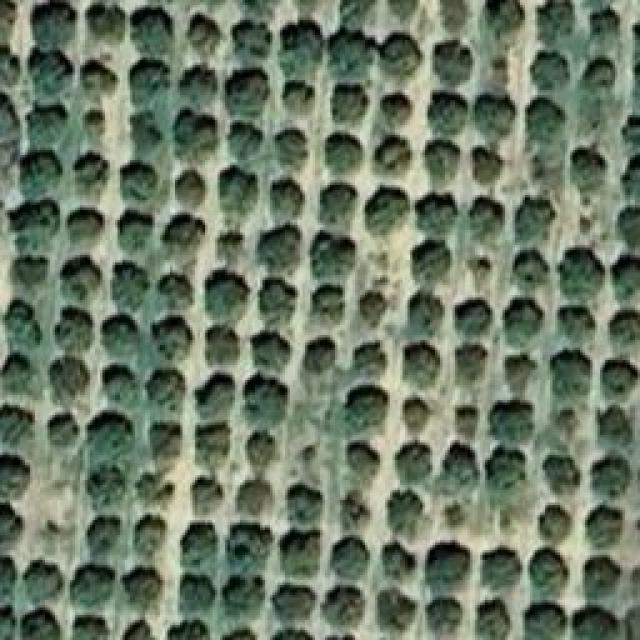Tree: (280, 20, 324, 78), (10, 203, 59, 255), (178, 58, 225, 109), (220, 165, 259, 225), (330, 30, 376, 80), (245, 375, 288, 428), (475, 95, 518, 148), (560, 250, 605, 300), (175, 110, 219, 161), (205, 270, 249, 321), (228, 525, 272, 576), (428, 543, 472, 594), (85, 412, 133, 458), (315, 178, 359, 228), (32, 0, 76, 49), (365, 188, 409, 236), (258, 225, 302, 272), (193, 423, 237, 470), (82, 463, 126, 510), (20, 150, 63, 198), (440, 443, 479, 494), (228, 73, 271, 119), (380, 33, 423, 79), (550, 350, 591, 398), (60, 255, 101, 302), (35, 50, 73, 100), (133, 8, 173, 55), (505, 298, 544, 346), (73, 565, 117, 607), (130, 60, 170, 106), (280, 530, 320, 576), (433, 40, 473, 86), (260, 278, 299, 325), (530, 550, 569, 597), (5, 300, 43, 348), (515, 197, 555, 242), (195, 375, 234, 421), (528, 98, 567, 144), (153, 318, 193, 362), (348, 385, 383, 435), (313, 235, 353, 278), (50, 358, 90, 401), (485, 448, 525, 491), (405, 343, 441, 390), (425, 140, 461, 187), (223, 575, 264, 616), (113, 263, 148, 311), (123, 568, 163, 610), (418, 193, 458, 235), (410, 293, 445, 340), (493, 402, 534, 442), (28, 105, 67, 147), (25, 560, 64, 602), (413, 240, 452, 282), (593, 458, 632, 500), (483, 548, 522, 590), (183, 525, 217, 573), (470, 198, 505, 244), (323, 587, 363, 627), (390, 490, 424, 537), (332, 538, 370, 580), (585, 558, 623, 600), (573, 147, 608, 192), (58, 308, 94, 351), (513, 250, 549, 293), (588, 505, 624, 548), (120, 162, 158, 202), (103, 315, 139, 357), (380, 590, 416, 632), (163, 215, 206, 250), (538, 0, 573, 43), (598, 405, 633, 448), (88, 517, 121, 562), (580, 58, 618, 97), (395, 443, 431, 484), (270, 180, 305, 222), (103, 365, 138, 407), (433, 93, 468, 135), (120, 210, 154, 253), (130, 112, 163, 156), (88, 5, 127, 42), (485, 0, 524, 37), (83, 60, 119, 100), (233, 22, 269, 62), (328, 134, 364, 174), (375, 135, 411, 175), (150, 370, 185, 411), (288, 485, 323, 526), (603, 360, 638, 400), (188, 15, 221, 57), (135, 515, 168, 557), (273, 585, 310, 622), (533, 53, 569, 91), (455, 300, 491, 338), (525, 605, 564, 640), (0, 405, 34, 445), (205, 325, 239, 365), (255, 332, 289, 372), (575, 610, 620, 640), (545, 455, 580, 493), (238, 480, 274, 516), (560, 308, 595, 345), (230, 123, 264, 161), (505, 355, 536, 396), (0, 455, 30, 497), (158, 275, 193, 311), (612, 255, 640, 300), (455, 345, 486, 385), (428, 600, 463, 635), (333, 85, 366, 122), (180, 575, 213, 612), (540, 505, 573, 542), (3, 352, 33, 392), (23, 610, 63, 640), (75, 154, 110, 188), (68, 210, 104, 243), (275, 130, 306, 168), (193, 478, 224, 516), (340, 493, 370, 532), (355, 342, 388, 377), (313, 285, 344, 321), (305, 338, 336, 374), (440, 500, 471, 536), (175, 170, 205, 207), (248, 433, 277, 471), (385, 545, 416, 580), (138, 474, 174, 504), (473, 148, 503, 184), (610, 310, 640, 346), (153, 423, 182, 460), (15, 258, 49, 289), (350, 442, 379, 477), (383, 93, 413, 126), (360, 292, 388, 327), (402, 397, 430, 432), (285, 83, 315, 115), (50, 415, 80, 447), (617, 207, 640, 248), (480, 603, 506, 639), (170, 617, 212, 639), (0, 505, 22, 546), (218, 233, 243, 269), (118, 617, 157, 640), (73, 615, 108, 640), (622, 155, 640, 203), (590, 8, 619, 36), (0, 558, 16, 599), (85, 110, 106, 141), (458, 407, 479, 437), (622, 115, 640, 148), (0, 608, 15, 640)
